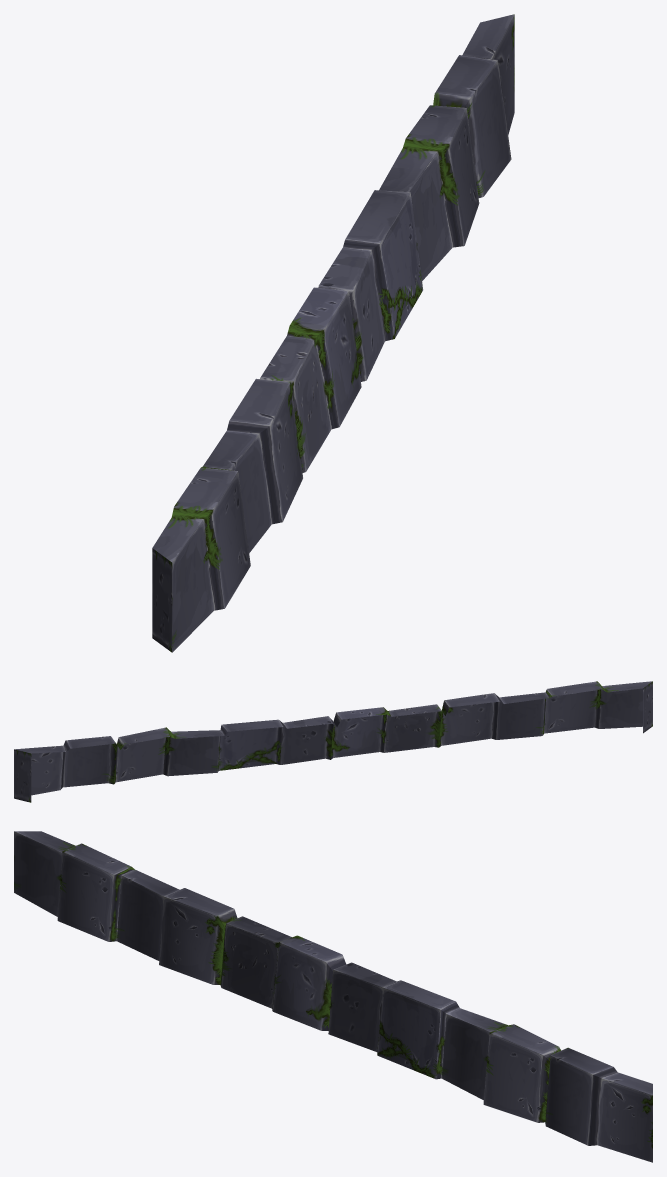
Rendered from MOD_WallTrim_01_E_angle_2.fbx.
3 views of the same model, one above another, from view 1: azimuth 30°, elevation 25°; view 2: azimuth 150°, elevation 25°; view 3: azimuth 270°, elevation 25° (orthographic). The views are drawn at different scales.
Parts seen in each view (by area): view 1: MOD_WallTrim_01_E_angle_2; view 2: MOD_WallTrim_01_E_angle_2; view 3: MOD_WallTrim_01_E_angle_2.
Part boxes in pixels (bbox=[...]): MOD_WallTrim_01_E_angle_2: bbox=[152, 14, 514, 652]; MOD_WallTrim_01_E_angle_2: bbox=[14, 681, 652, 802]; MOD_WallTrim_01_E_angle_2: bbox=[14, 831, 652, 1162].
Bounding box in the file's own units: 470 × 55.49 × 470.
